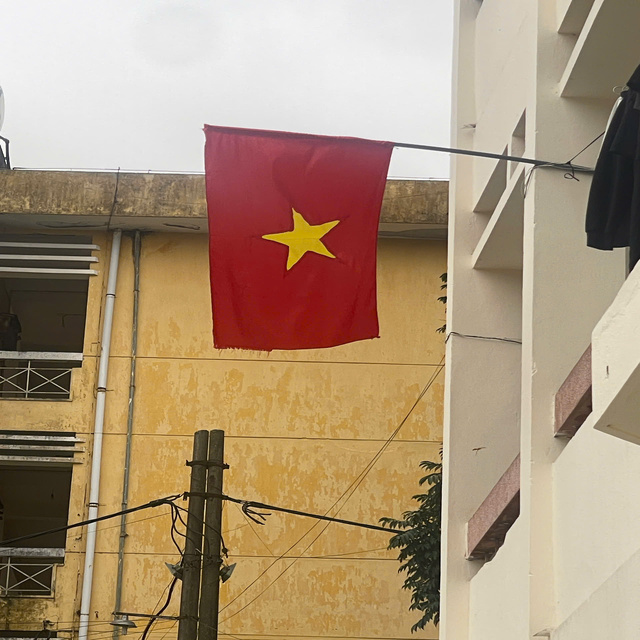laco: (187, 115, 410, 357)
